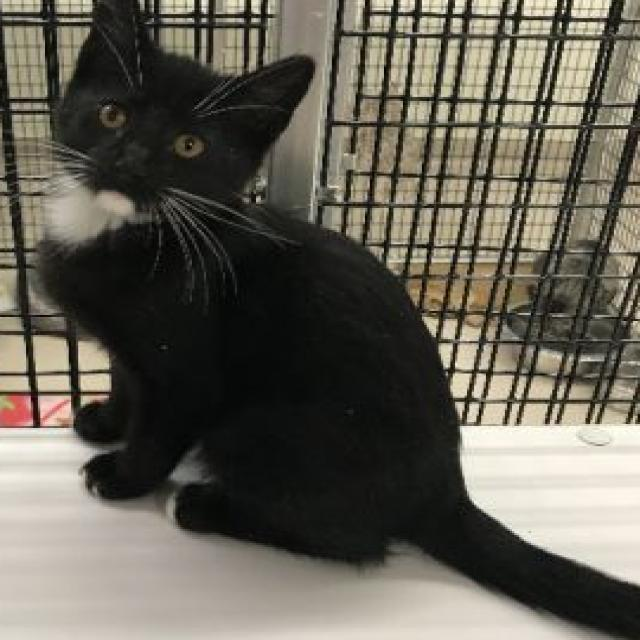Tuxedo: (21, 0, 640, 640)
